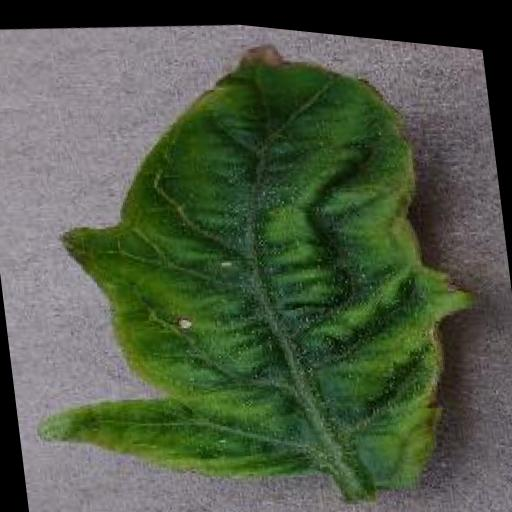Yellow Leaf Curl Virus: (0, 0, 497, 512)
